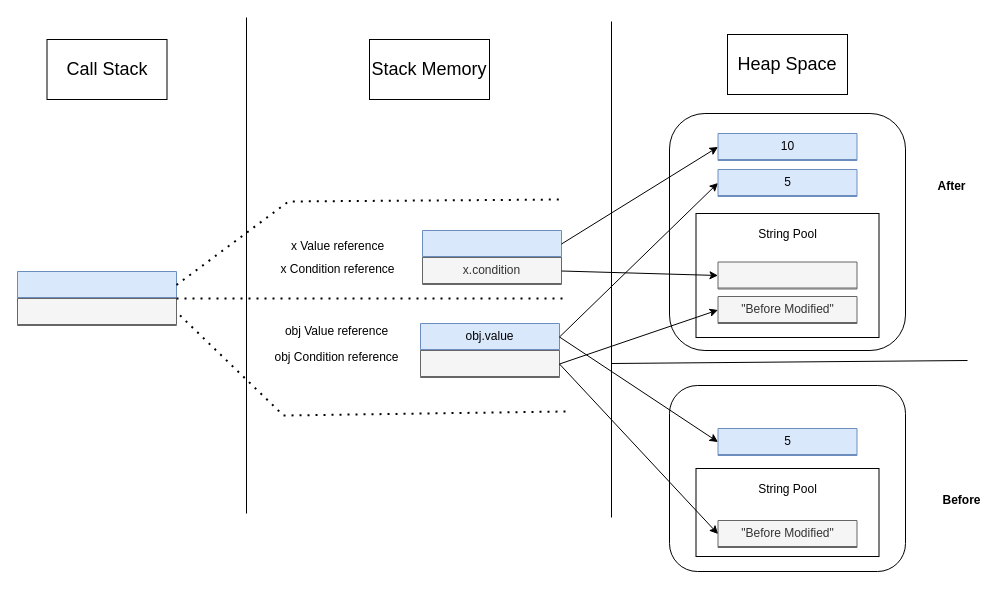
The diagram is 1005 pixels wide and 589 high, and some of its shapes have lost their labels. The shapes that lost their labels are listed below. From the top down, each one's box as (x1, y1, x2, y2) in pixels, then its label:
(422, 230, 562, 258): x.value
(16, 270, 176, 298): changeReference(Myclass)
(717, 261, 857, 289): "After Modified"
(16, 298, 176, 326): main(String[])
(420, 350, 560, 378): obj.condition
